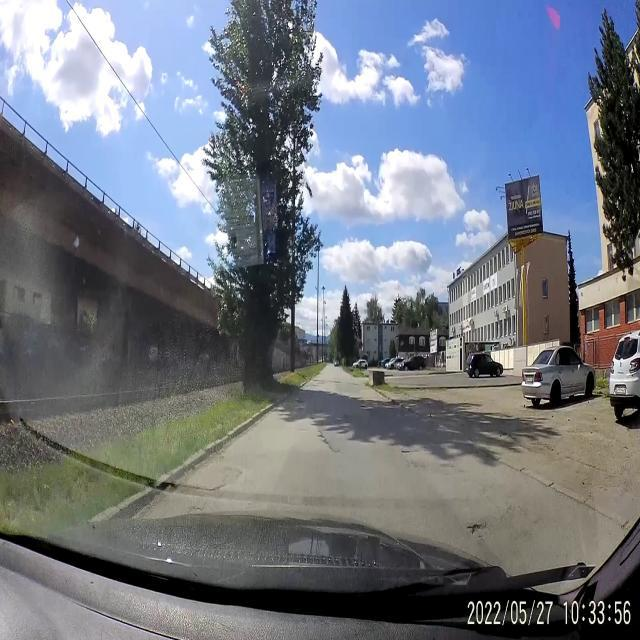Pothole: (467, 518, 488, 540), (396, 445, 416, 458)
